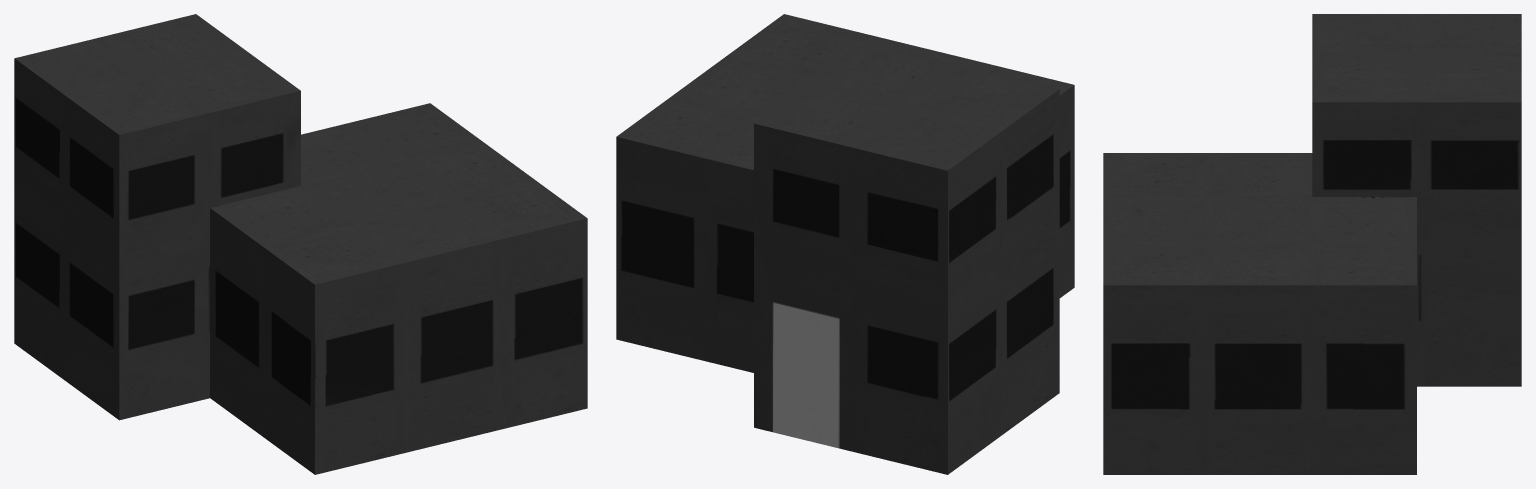
Rendered from house.obj.
3 views of the same model, side by side, from view 1: azimuth 30°, elevation 25°; view 2: azimuth 150°, elevation 25°; view 3: azimuth 270°, elevation 25° (orthographic). The views are drawn at different scales.
Visible parts, largest first — view 1: Cube.001; view 2: Cube.001; view 3: Cube.001.
Part boxes in pixels (left/top/right/bottom): Cube.001: left=14, top=14, right=587, bottom=474; Cube.001: left=616, top=14, right=1074, bottom=474; Cube.001: left=1103, top=14, right=1521, bottom=474.
Bounding box in the file's own units: 19.23 × 14.43 × 19.23.
1 material, 1 textured.
